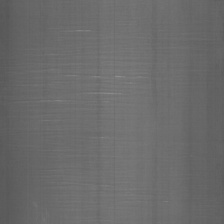waist_folding: (20, 9, 131, 173)
